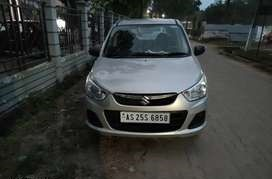AS25S6858: (120, 111, 170, 122)
